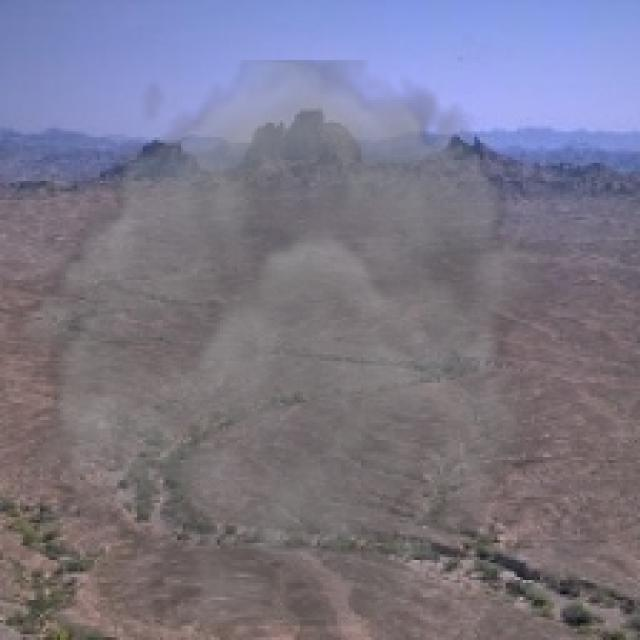smoke: (0, 60, 569, 626)
